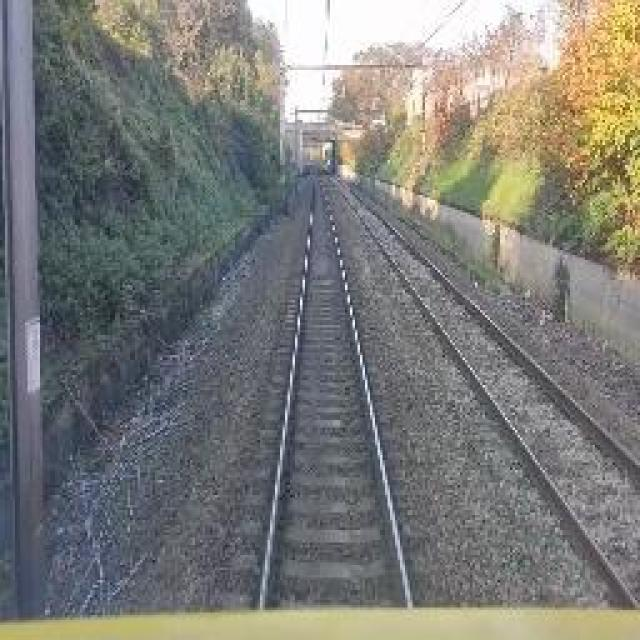rail: (215, 172, 439, 609)
